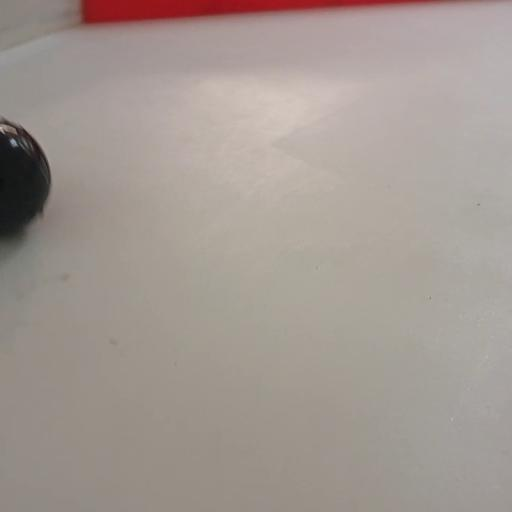dead: (0, 113, 53, 237)
